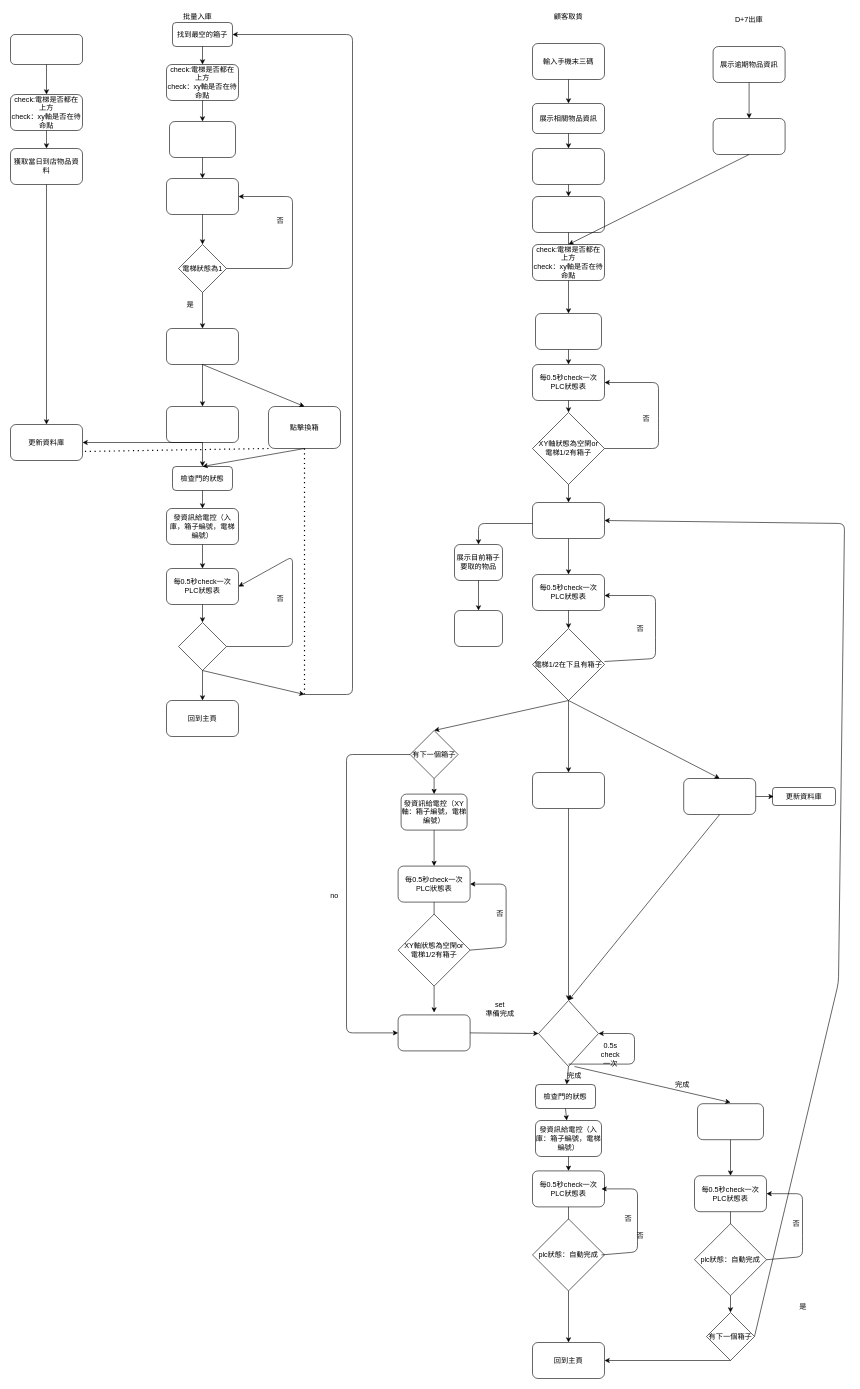
This 860x1389 diagram has some shape labels left out. The shapes that lost their labels are listed below. From the top down, each one's centre as x and y in pixels, then its label:
At (46,49): "開機".
At (202,139): "發資訊給電控（出庫，箱子編號，電梯編號）".
At (748,136): "點擊取出勾選".
At (568,166): "勾選要取的物品".
At (202,196): "每秒check一次PLC狀態表".
At (568,214): "點擊取貨".
At (202,346): "掃描barcode獲取物品資料".
At (568,331): "發資訊給電控（XY軸：出庫，箱子編號，電梯編號）".
At (202,424): "點擊入庫".
At (568,520): "發給PLC：電梯1/2下來".
At (202,646): "電梯狀態為2".
At (478,628): "掃描barcode，自動勾選物品".
At (568,790): "點擊取消".
At (719,796): "點擊取貨完成".
At (434,1032): "準備完成".
At (568,1033): "準備是否完成".
At (730,1121): "發資訊給電控（入庫：箱子編號，電梯編號 ）".
